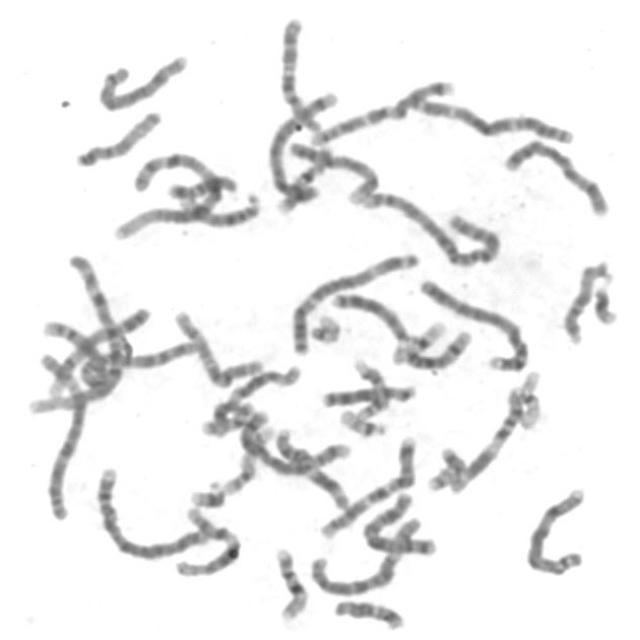A1: (32, 246, 132, 412), (108, 144, 226, 244)
A2: (355, 184, 504, 268), (41, 319, 202, 386)
A3: (284, 246, 422, 355), (399, 86, 578, 146)
B4: (90, 460, 214, 562), (414, 271, 534, 373)
B5: (262, 83, 341, 209), (234, 406, 354, 476)
C10: (168, 302, 266, 388), (273, 10, 326, 135)
C11: (438, 381, 527, 495), (269, 421, 355, 511)
C12: (198, 358, 305, 439), (168, 499, 244, 578)
C6: (30, 342, 91, 522), (304, 508, 424, 596)
C7: (314, 429, 420, 540), (304, 73, 458, 147)
C8: (520, 480, 591, 579), (91, 48, 192, 112)
C9: (34, 299, 154, 404), (281, 136, 381, 207)
D13: (325, 286, 415, 344), (316, 377, 419, 409)
D14: (385, 321, 475, 370), (169, 185, 263, 229)
D15: (70, 104, 165, 168), (556, 255, 616, 347)
E16: (272, 139, 336, 216), (269, 540, 312, 624)
E17: (212, 417, 278, 497), (342, 351, 398, 425)
E18: (328, 593, 407, 632), (162, 170, 238, 201)
F19: (388, 313, 451, 366), (512, 361, 547, 432)
F20: (196, 394, 258, 438), (423, 441, 469, 493)
G21: (587, 268, 621, 326), (184, 473, 229, 509)
G22: (334, 402, 391, 438), (305, 307, 343, 346)
X: (497, 131, 612, 219), (356, 488, 440, 558)
